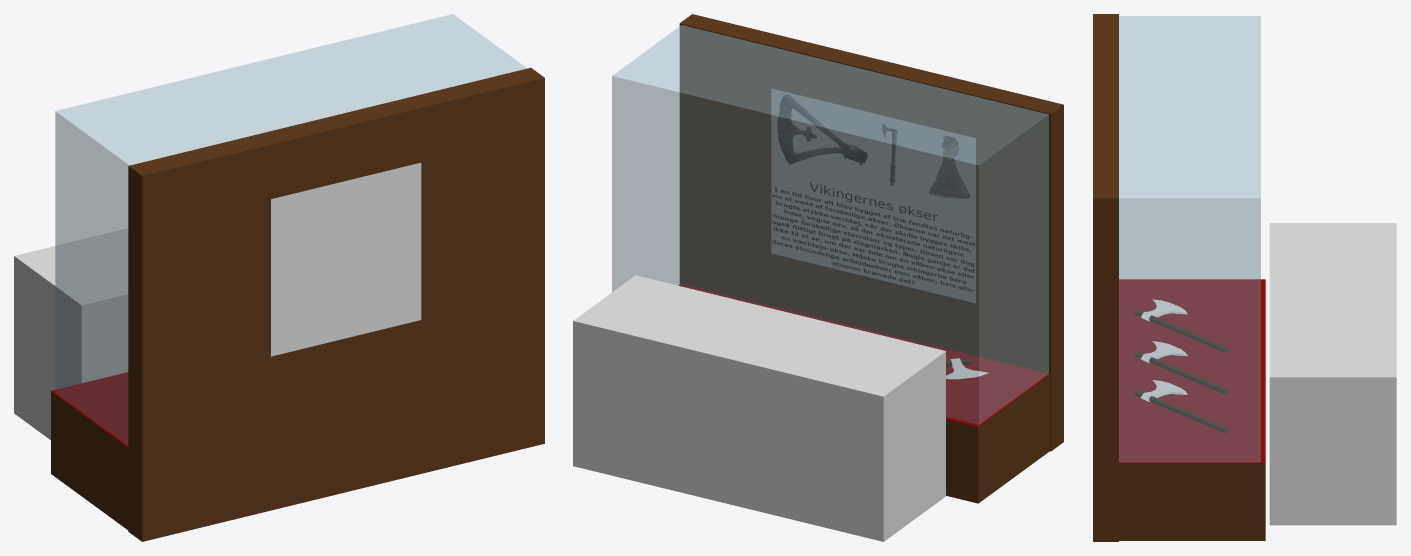
File: montre_oekser.gltf
The picture shows the model from 3 angles, left to right: view 1: azimuth 30°, elevation 25°; view 2: azimuth 150°, elevation 25°; view 3: azimuth 270°, elevation 25°; orthographic projection. The views are drawn at different scales.
Visible parts, largest first — view 1: Cube.001, glass.001, snap, front.zone, Cube.006; view 2: glass.001, front.zone, Cube.001, Plane, Cube.006; view 3: glass.001, front.zone, Cube.006, Cube.001, Cylinder.001, Cylinder, Cylinder.002, Cube.003, Cube.002, Cube.
Part boxes in pixels (box(x1,y1,x2,y2)): Cube.001: box(128, 67, 544, 541); glass.001: box(55, 14, 526, 444); snap: box(271, 162, 421, 356); front.zone: box(14, 228, 128, 439); Cube.006: box(51, 372, 128, 529); glass.001: box(612, 25, 1048, 424); front.zone: box(573, 275, 945, 541); Cube.001: box(679, 14, 1063, 451); Plane: box(771, 88, 975, 303); Cube.006: box(678, 284, 1050, 503); glass.001: box(1119, 16, 1260, 462); front.zone: box(1269, 223, 1396, 525); Cube.006: box(1119, 279, 1265, 540); Cube.001: box(1093, 14, 1118, 541); Cylinder.001: box(1134, 351, 1229, 394); Cylinder: box(1134, 390, 1229, 433); Cylinder.002: box(1134, 309, 1229, 352); Cube.003: box(1141, 299, 1187, 321); Cube.002: box(1141, 341, 1187, 362); Cube: box(1141, 380, 1187, 401).
Bounding box in the file's own units: 5.35 × 4.65 × 3.73.
6 materials, 1 textured.
